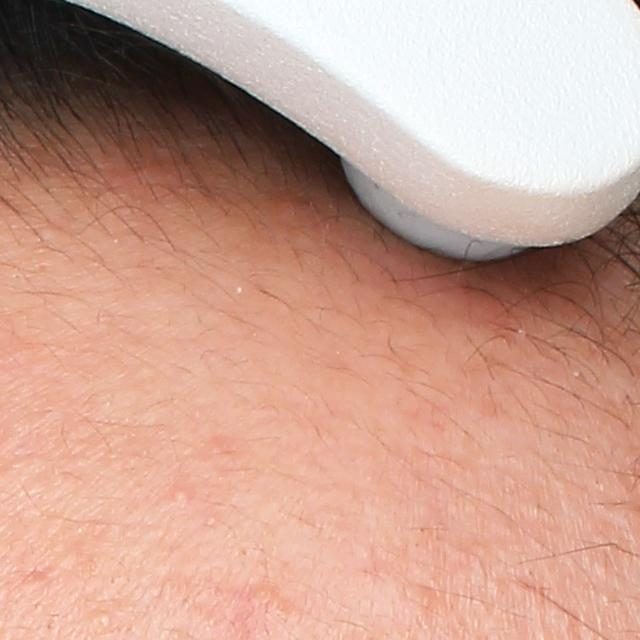comedo: (168, 487, 194, 512), (96, 610, 114, 629)
